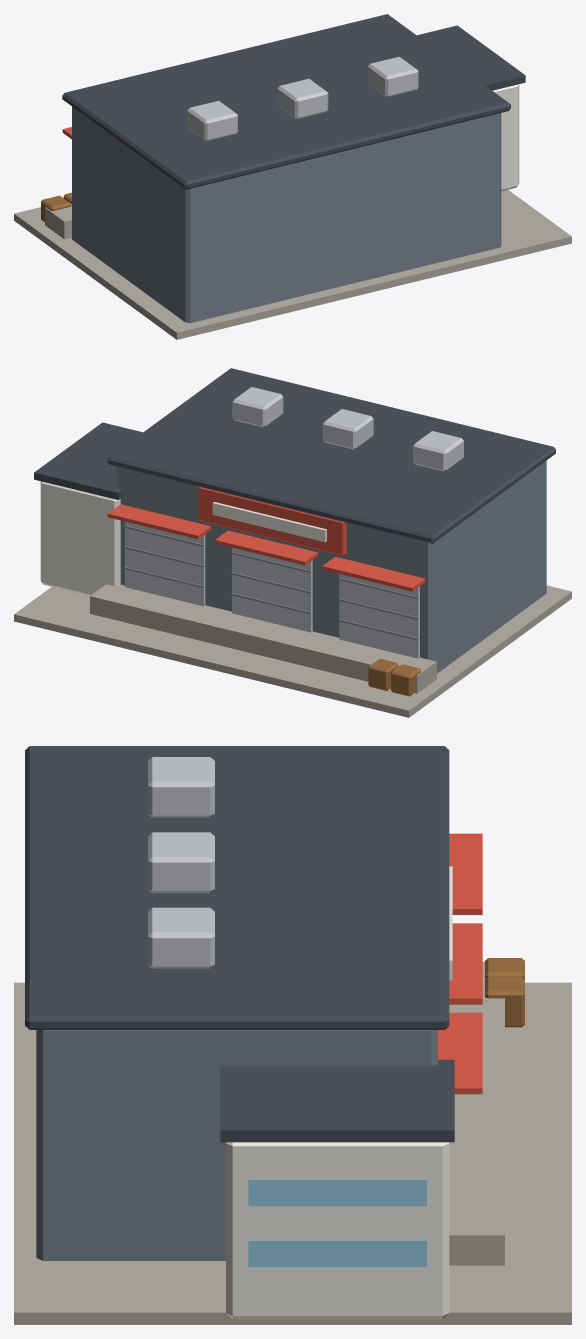
Rendered from garage_l3.glb.
3 views of the same model, one above another, from view 1: azimuth 30°, elevation 25°; view 2: azimuth 150°, elevation 25°; view 3: azimuth 270°, elevation 25° (orthographic). The views are drawn at different scales.
Visible parts, largest first — view 1: garage_l3; view 2: garage_l3; view 3: garage_l3.
Boxes of the visible parts, x1,y1,x2,y2 form: garage_l3: (14,14,571,339); garage_l3: (14,368,571,717); garage_l3: (14,746,571,1324).
Bounding box in the file's own units: 7.25 × 2.93 × 5.
1 material, 1 textured.
